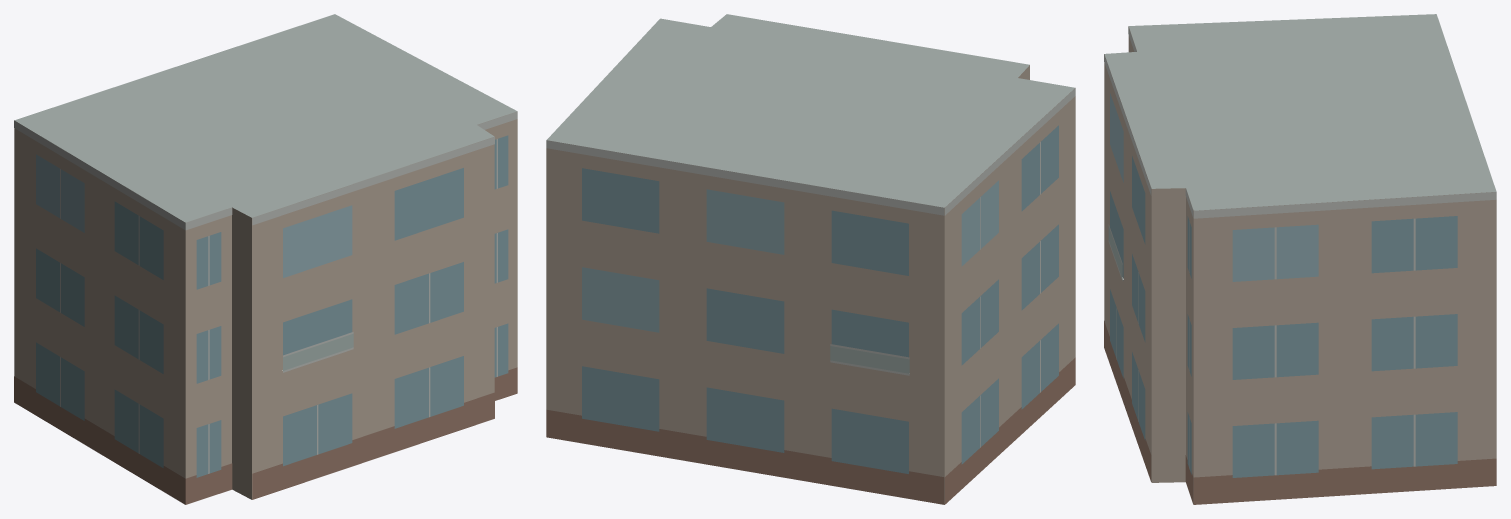
The model's file is survey-upis-32921150.glb.
3 views of the same model, side by side, from view 1: azimuth 30°, elevation 25°; view 2: azimuth 150°, elevation 25°; view 3: azimuth 270°, elevation 25° (orthographic). The views are drawn at different scales.
Parts seen in each view (by area): view 1: survey-upis-32921150.tmp; view 2: survey-upis-32921150.tmp; view 3: survey-upis-32921150.tmp.
Part boxes in pixels (bbox=[...]): survey-upis-32921150.tmp: bbox=[14, 14, 517, 504]; survey-upis-32921150.tmp: bbox=[546, 14, 1075, 504]; survey-upis-32921150.tmp: bbox=[1104, 14, 1496, 504].
Bounding box in the file's own units: 12.92 × 9 × 10.89.
